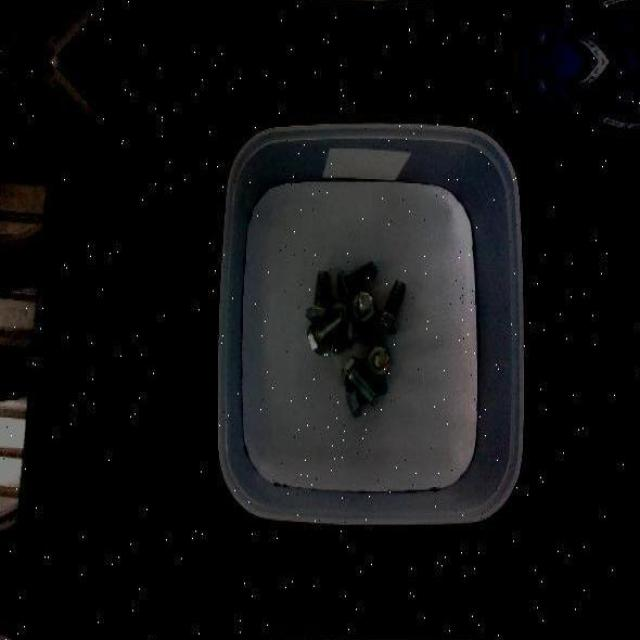screw: (338, 355, 379, 405), (308, 308, 348, 354), (375, 278, 407, 334), (338, 259, 378, 301), (366, 343, 392, 376), (353, 290, 374, 322)
